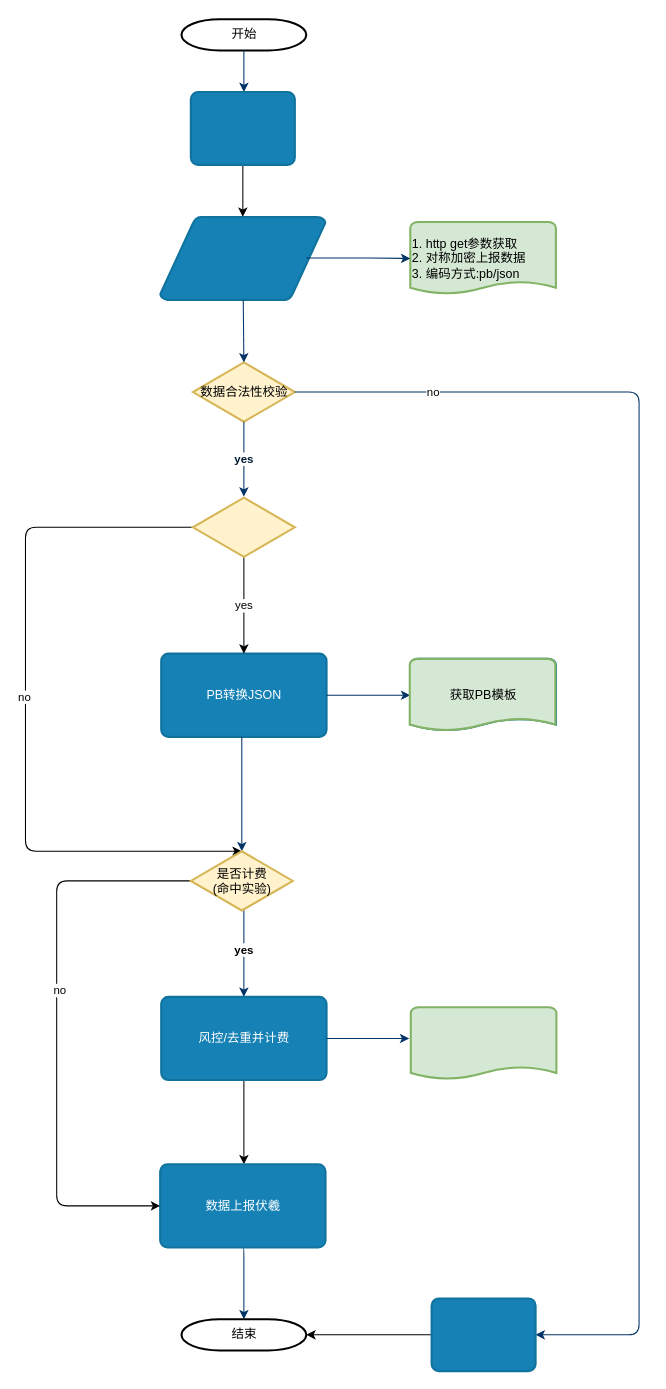
The diagram is 666 pixels wide and 1389 high, and some of its shapes have lost their labels. Here are the shapes that lost their labels. From the top down, the centre of each, then its label:
point (242, 127): 服务端接收点击/曝光链接
point (242, 258): 获取透传+编码方式
point (243, 526): 编码方式:PB
point (483, 1043): 统一计费请求对象
point (483, 1334): 数据异常告警 类型如下: 1. 参数缺失 2. 解密异常
